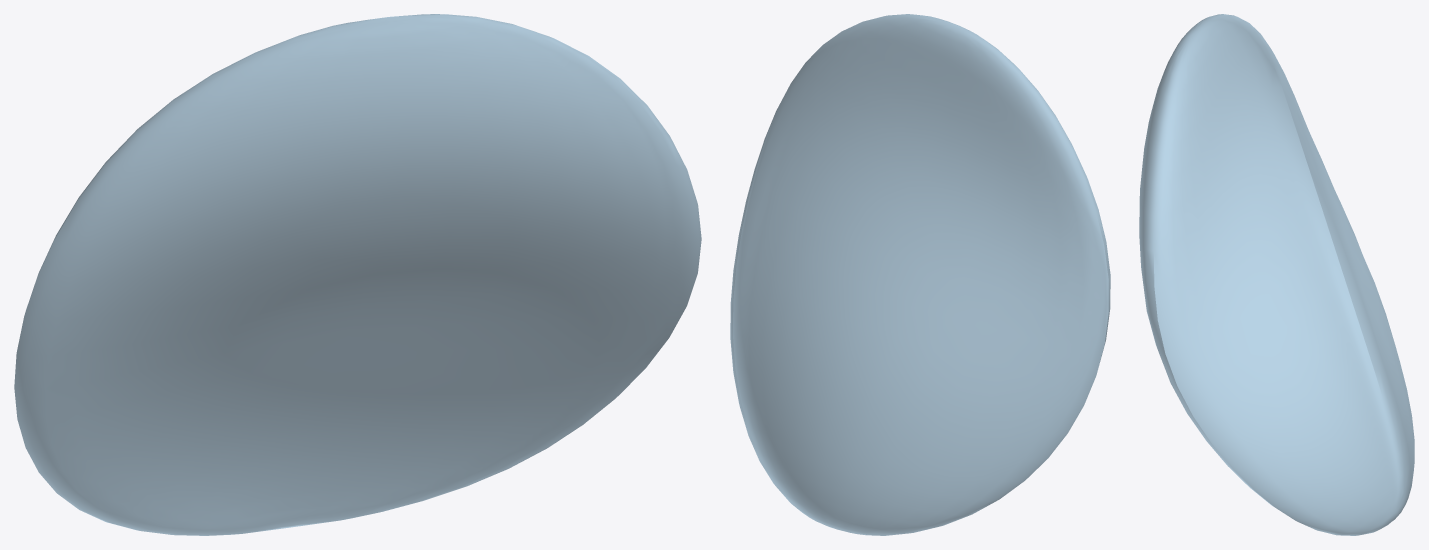
Rendered from bourse-tricipitale.glb.
3 renders of one model, left to right at view 1: azimuth 30°, elevation 25°; view 2: azimuth 150°, elevation 25°; view 3: azimuth 270°, elevation 25°, orthographic. The views are drawn at different scales.
Parts seen in each view (by area): view 1: bourse-tricipitale; view 2: bourse-tricipitale; view 3: bourse-tricipitale.
Boxes of the visible parts, <box> form: bourse-tricipitale: <box>14,14,701,535</box>; bourse-tricipitale: <box>730,14,1110,535</box>; bourse-tricipitale: <box>1139,14,1414,535</box>.
Size of the model in its own units: 0.0302 by 0.0302 by 0.0163.
